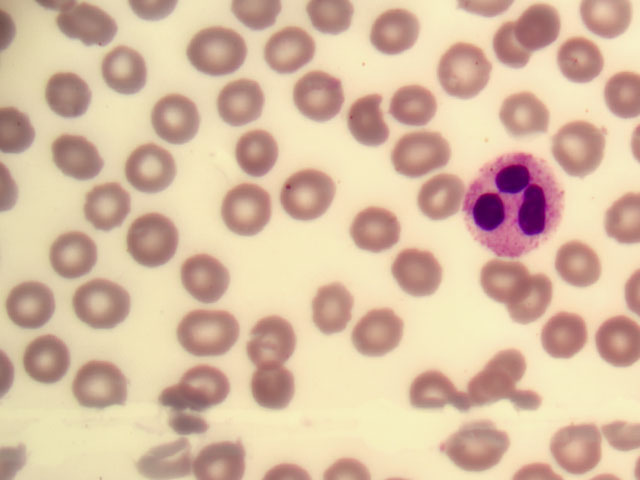RBC: (74, 275, 126, 332), (129, 214, 181, 271), (127, 140, 179, 197), (152, 90, 204, 147), (188, 27, 240, 84), (216, 72, 268, 129), (230, 125, 282, 182), (222, 183, 274, 240), (180, 249, 232, 306), (177, 303, 229, 360), (182, 359, 234, 416), (247, 361, 299, 418), (243, 314, 295, 371), (304, 282, 356, 339), (342, 301, 394, 358), (388, 241, 440, 298), (347, 203, 399, 260), (282, 165, 334, 222), (295, 67, 347, 124), (268, 22, 320, 79), (376, 5, 428, 62), (394, 79, 446, 136), (334, 92, 386, 149), (398, 124, 450, 181), (416, 172, 468, 229), (199, 423, 251, 480), (409, 364, 461, 421), (475, 351, 527, 408), (453, 418, 505, 475), (548, 414, 600, 471), (542, 309, 594, 366), (506, 269, 558, 326), (470, 247, 522, 304), (548, 237, 600, 294), (555, 121, 607, 178), (503, 87, 555, 144), (434, 49, 486, 106), (495, 8, 547, 65), (560, 33, 612, 90), (588, 318, 640, 375), (61, 2, 113, 54), (97, 44, 149, 96), (49, 71, 101, 123), (48, 130, 100, 182), (83, 182, 135, 234), (49, 229, 101, 281), (8, 279, 60, 331), (22, 330, 74, 382), (78, 360, 130, 412), (1, 98, 38, 163)
WBC: (468, 149, 564, 258)
